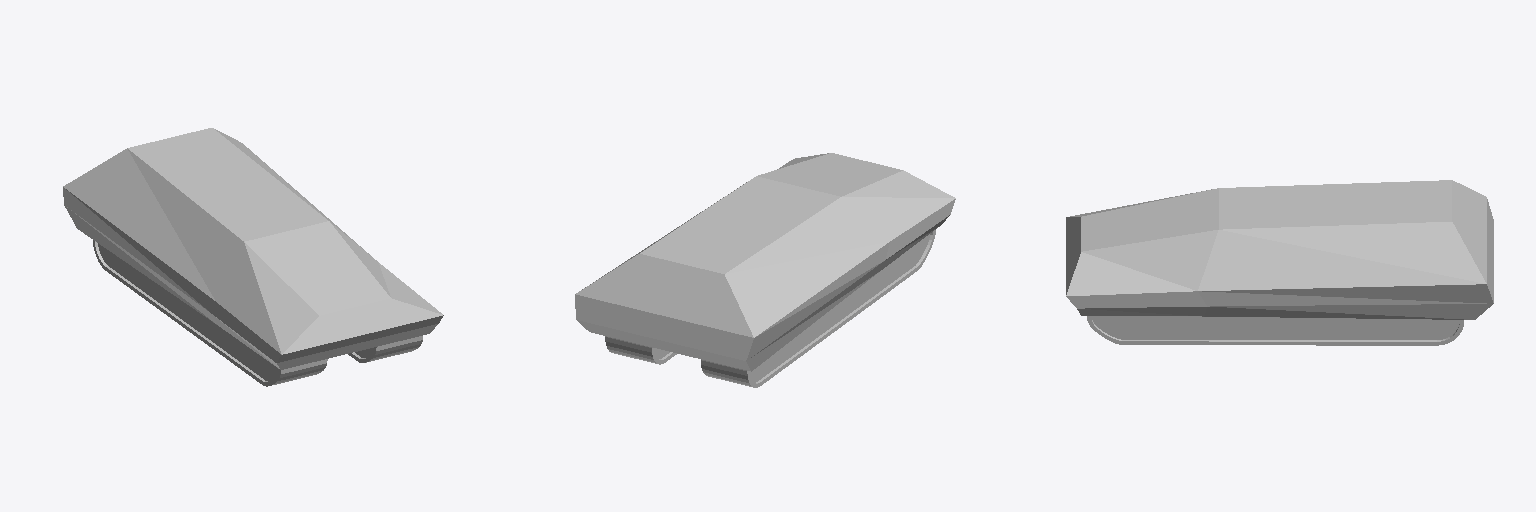
Rendered from chassis.obj.
3 views of the same model, side by side, from view 1: azimuth 30°, elevation 25°; view 2: azimuth 150°, elevation 25°; view 3: azimuth 270°, elevation 25° (orthographic).
Parts seen in each view (by area): view 1: Cylinder.001; view 2: Cylinder.001; view 3: Cylinder.001.
Boxes of the visible parts, <box> form: Cylinder.001: <box>63,128,443,386</box>; Cylinder.001: <box>575,153,955,387</box>; Cylinder.001: <box>1066,180,1493,345</box>.
Size of the model in its own units: 3.7 by 2.18 by 7.65.